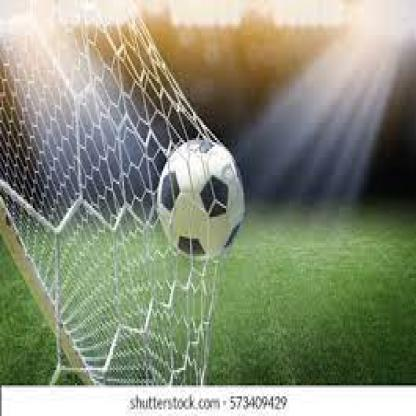goal: (91, 27, 248, 310)
